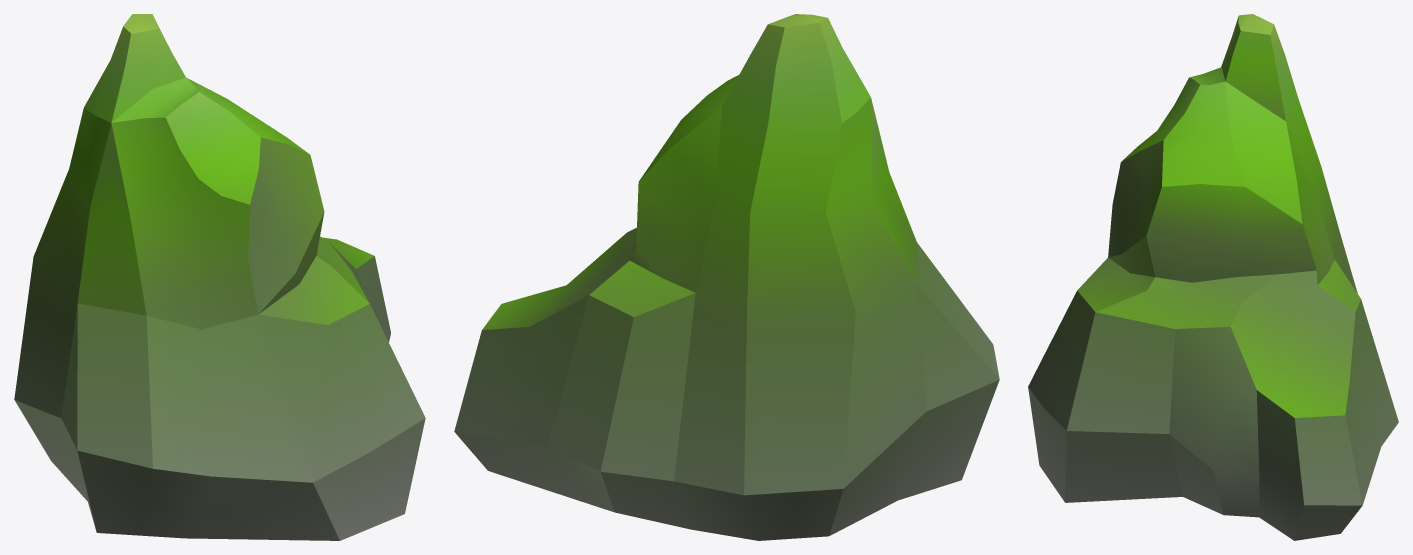
The model's file is RockMoss1.fbx.
3 renders of one model, left to right at view 1: azimuth 30°, elevation 25°; view 2: azimuth 150°, elevation 25°; view 3: azimuth 270°, elevation 25°, orthographic. The views are drawn at different scales.
Parts seen in each view (by area): view 1: RockMoss1; view 2: RockMoss1; view 3: RockMoss1.
Boxes of the visible parts, box(x1,y1,x2,y2) form: RockMoss1: box(14, 14, 425, 540); RockMoss1: box(454, 14, 999, 540); RockMoss1: box(1028, 14, 1398, 540).
Size of the model in its own units: 101 by 109 by 88.66.
